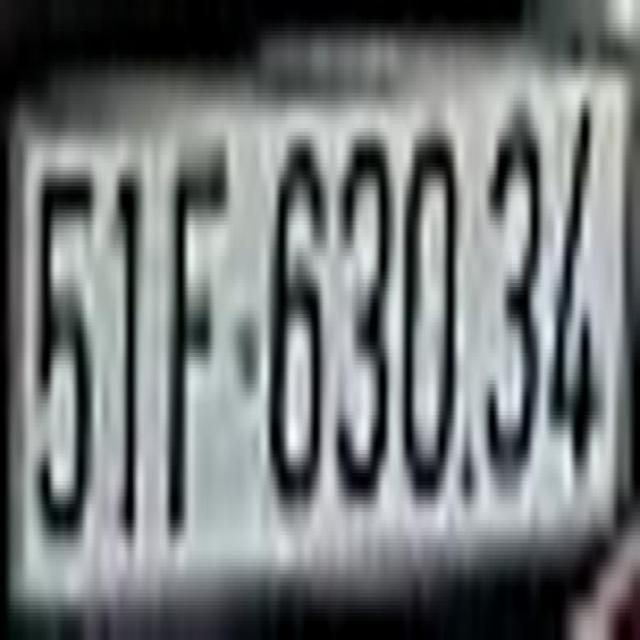0: (404, 97, 457, 527)
1: (115, 163, 135, 578)
3: (480, 109, 542, 504), (334, 120, 391, 516)
4: (548, 89, 610, 481)
5: (39, 159, 91, 543)
6: (266, 116, 328, 532)
F: (168, 128, 236, 547)
